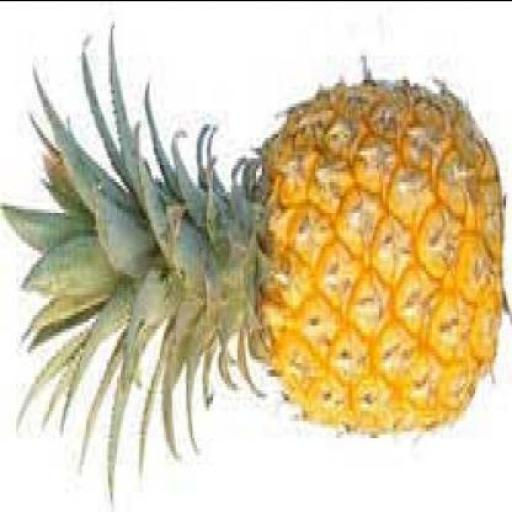biodegradable: (0, 16, 511, 510), (0, 24, 262, 502), (256, 75, 497, 427)
